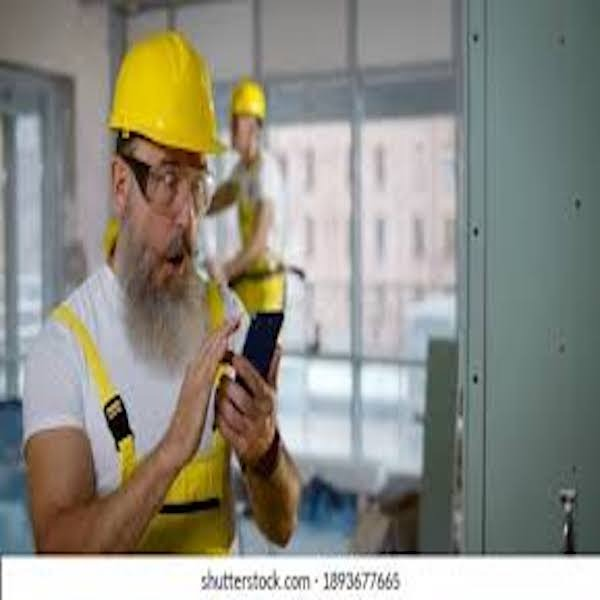helmet: (110, 35, 228, 148), (228, 81, 275, 111)
